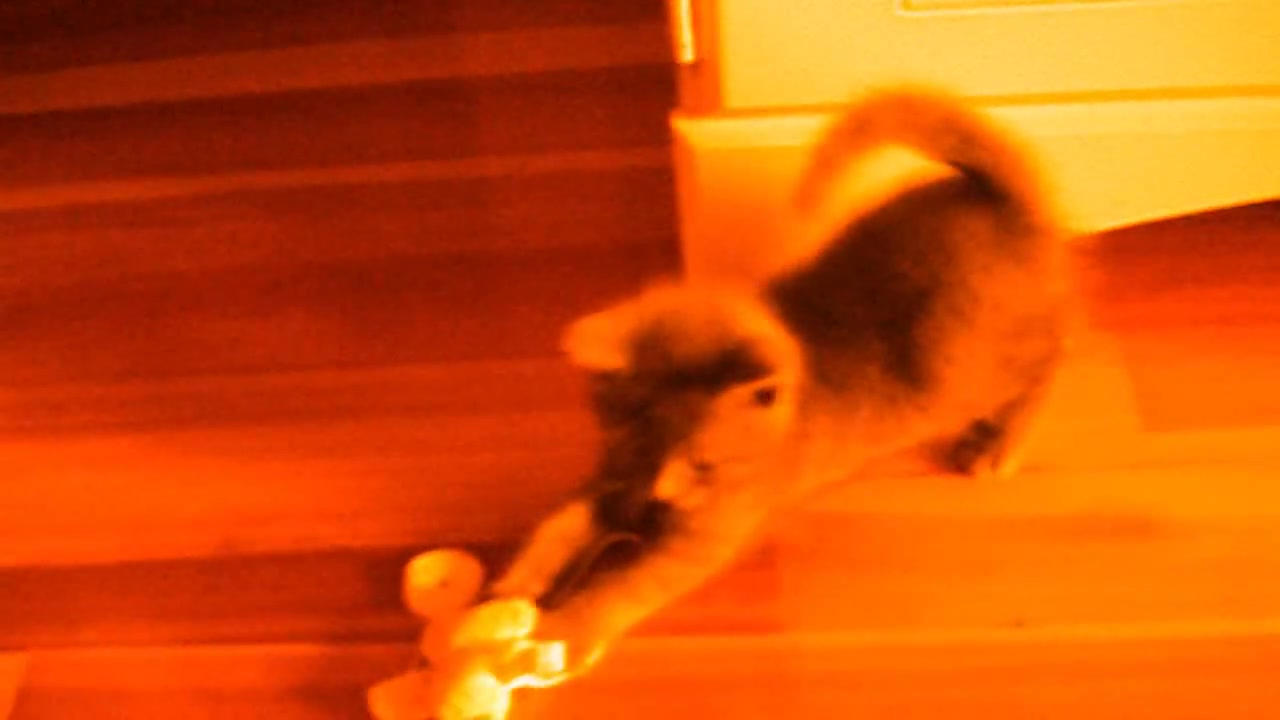cat: (479, 83, 1077, 690)
